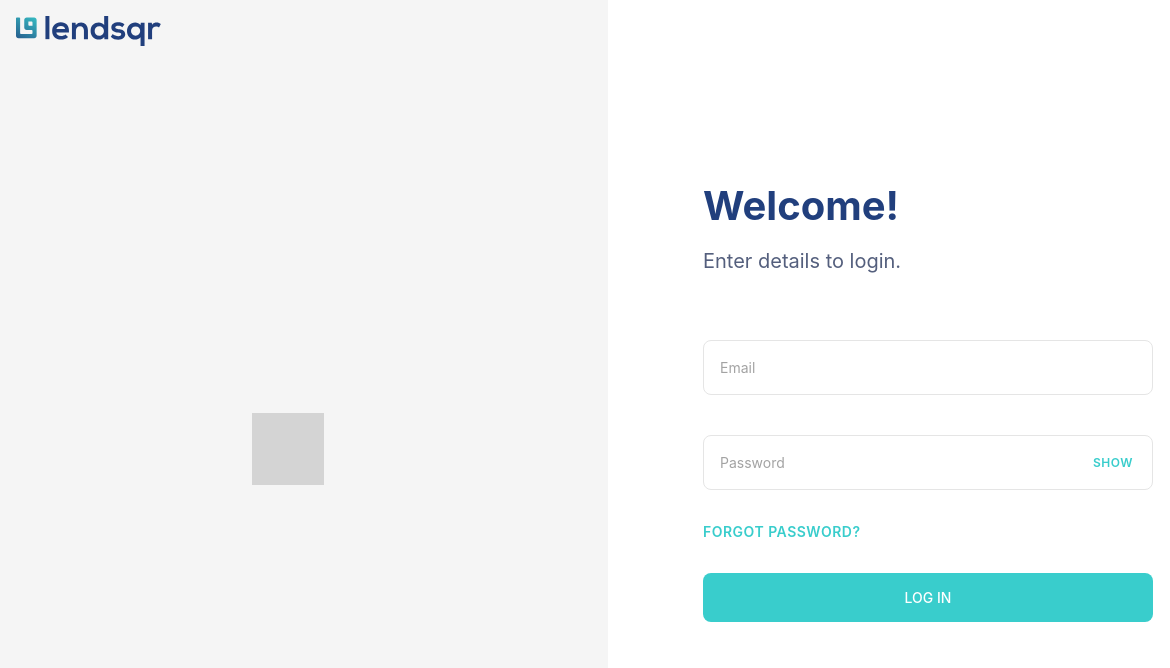
Test: Login Page › should show error when email is empty
The image size is (1170, 668).
Step 1. Click the button "LOG IN" → [928, 598], box [703,573,1153,622]
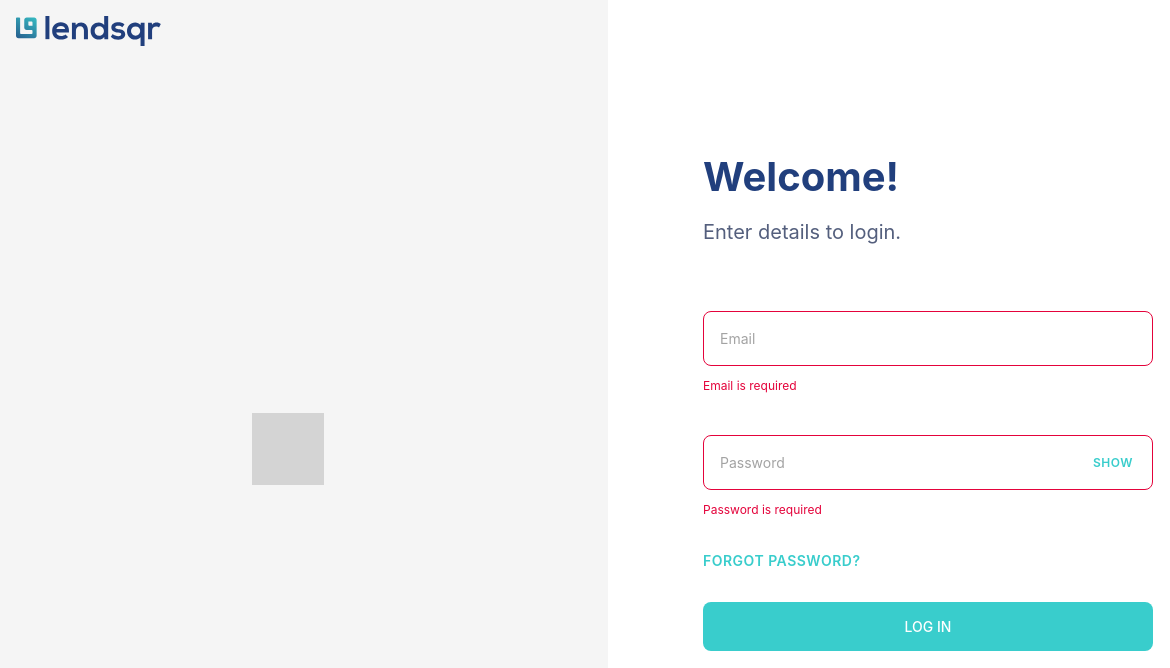
expect the text "Email is required" is shown: met, box [703,378,797,393]
